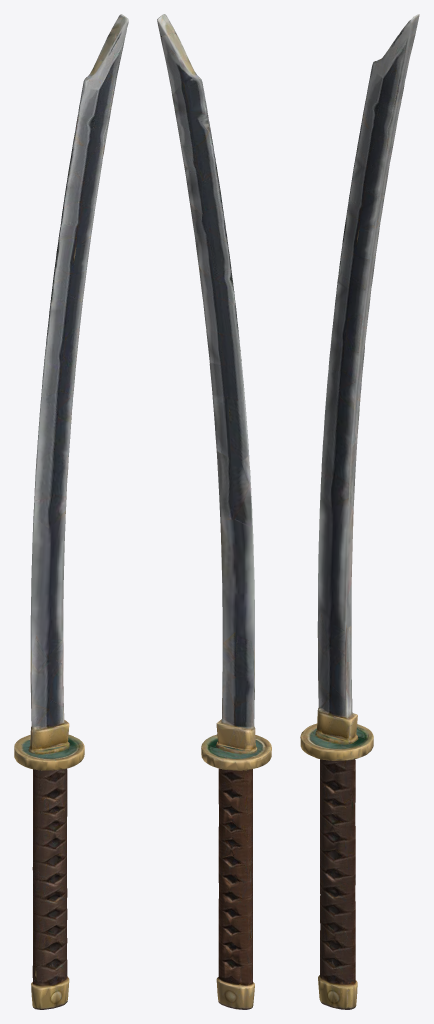
Rendered from sword.glb.
3 views of the same model, side by side, from view 1: azimuth 30°, elevation 25°; view 2: azimuth 150°, elevation 25°; view 3: azimuth 330°, elevation 25° (orthographic). The views are drawn at different scales.
Size of the model in its own units: 0.2181 by 1.9 by 0.1222.
1 material, 1 textured.
